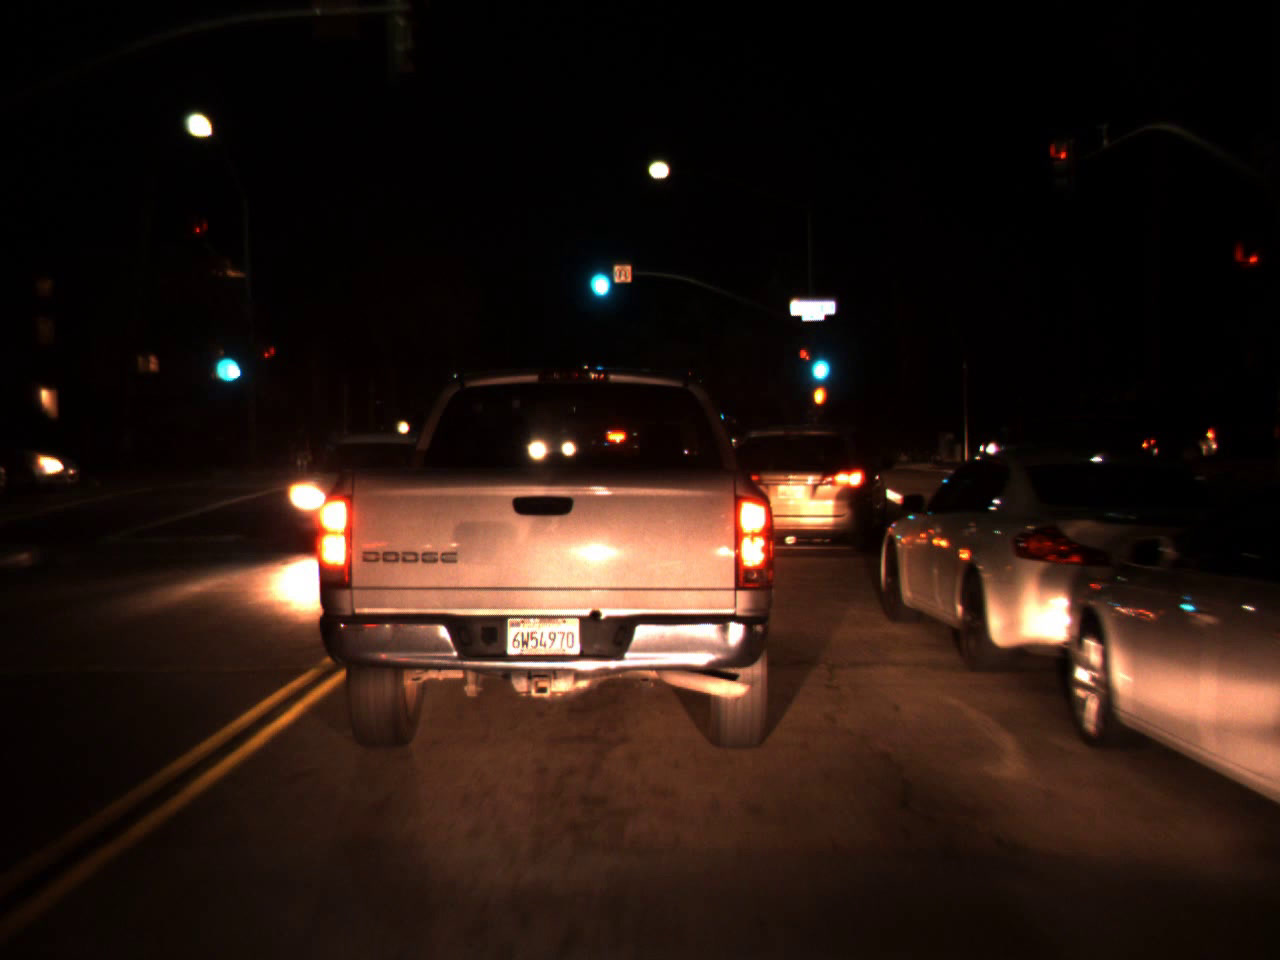go: (583, 245, 615, 305), (208, 333, 242, 387), (805, 334, 833, 388)
